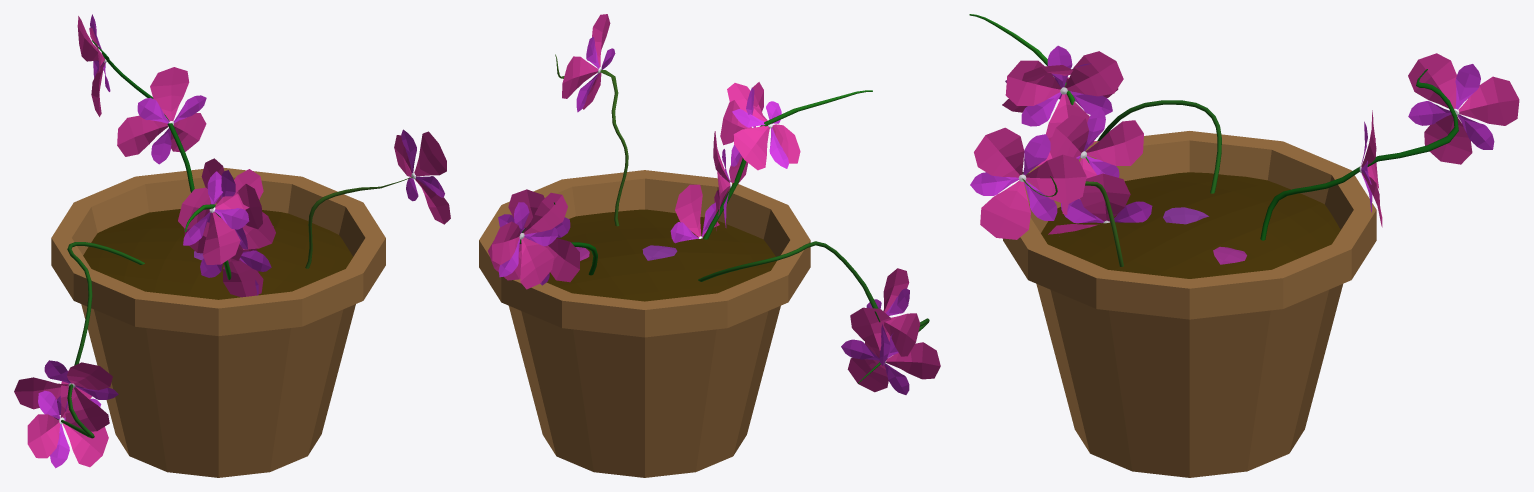
The model's file is Flower1_Frame2.fbx.
3 renders of one model, left to right at view 1: azimuth 30°, elevation 25°; view 2: azimuth 150°, elevation 25°; view 3: azimuth 270°, elevation 25°, orthographic. The views are drawn at different scales.
Visible parts, largest first — view 1: Cylinder, Circle, BézierCurve.002|Circle.008|Dupli|, BézierCurve.003|Circle.008|Dupli|, BézierCurve|Circle.008|Dupli|1, BézierCurve|Circle.008|Dupli|, BézierCurve.001|Circle.008|Dupli|, BézierCurve.003|Circle.008|Dupli|2, BézierCurve.003|Circle.008|Dupli|1, BézierCurve, BézierCurve.002|Circle.008|Dupli|1, BézierCurve.002 (+1 smaller); view 2: Cylinder, Circle, BézierCurve|Circle.008|Dupli|, BézierCurve.002|Circle.008|Dupli|1, BézierCurve.003|Circle.008|Dupli|, BézierCurve|Circle.008|Dupli|1, BézierCurve.002|Circle.008|Dupli|, BézierCurve.001|Circle.008|Dupli|, BézierCurve.003|Circle.008|Dupli|4, BézierCurve.003|Circle.008|Dupli|1, BézierCurve, BézierCurve.003 (+2 smaller); view 3: Cylinder, Circle, BézierCurve.001|Circle.008|Dupli|, BézierCurve.002|Circle.008|Dupli|1, BézierCurve.003|Circle.008|Dupli|1, BézierCurve.003|Circle.008|Dupli|2, BézierCurve.003|Circle.008|Dupli|4, BézierCurve.002, BézierCurve, BézierCurve.002|Circle.008|Dupli|, BézierCurve.003|Circle.008|Dupli|, BézierCurve.001 (+1 smaller).
Part boxes in pixels (x1,y1,x2,y2): Cylinder: [51, 168, 385, 477]; Circle: [83, 209, 352, 299]; BézierCurve.002|Circle.008|Dupli|: [117, 67, 206, 164]; BézierCurve.003|Circle.008|Dupli|: [178, 169, 263, 264]; BézierCurve|Circle.008|Dupli|1: [14, 360, 118, 431]; BézierCurve|Circle.008|Dupli|: [27, 370, 108, 468]; BézierCurve.001|Circle.008|Dupli|: [394, 129, 450, 224]; BézierCurve.003|Circle.008|Dupli|2: [184, 212, 275, 297]; BézierCurve.003|Circle.008|Dupli|1: [201, 158, 262, 260]; BézierCurve: [54, 242, 144, 438]; BézierCurve.002|Circle.008|Dupli|1: [77, 14, 110, 116]; BézierCurve.002: [92, 40, 194, 192]; Cylinder: [479, 170, 810, 477]; Circle: [546, 209, 776, 301]; BézierCurve|Circle.008|Dupli|: [841, 307, 940, 394]; BézierCurve.002|Circle.008|Dupli|1: [492, 192, 567, 289]; BézierCurve.003|Circle.008|Dupli|: [727, 83, 800, 170]; BézierCurve|Circle.008|Dupli|1: [865, 268, 920, 368]; BézierCurve.002|Circle.008|Dupli|: [488, 189, 579, 285]; BézierCurve.001|Circle.008|Dupli|: [562, 14, 615, 112]; BézierCurve.003|Circle.008|Dupli|4: [670, 184, 719, 243]; BézierCurve.003|Circle.008|Dupli|1: [720, 82, 763, 183]; BézierCurve: [698, 241, 929, 383]; BézierCurve.003: [703, 90, 872, 239]; Cylinder: [1003, 131, 1376, 477]; Circle: [1041, 172, 1340, 278]; BézierCurve.001|Circle.008|Dupli|: [970, 127, 1086, 239]; BézierCurve.002|Circle.008|Dupli|1: [1408, 53, 1519, 164]; BézierCurve.003|Circle.008|Dupli|1: [1005, 45, 1123, 145]; BézierCurve.003|Circle.008|Dupli|2: [1050, 107, 1143, 215]; BézierCurve.003|Circle.008|Dupli|4: [1048, 173, 1152, 234]; BézierCurve.002: [1260, 69, 1458, 240]; BézierCurve: [1097, 100, 1221, 193]; BézierCurve.002|Circle.008|Dupli|: [1359, 110, 1382, 227]; BézierCurve.003|Circle.008|Dupli|: [1002, 63, 1118, 112]; BézierCurve.001: [1022, 172, 1123, 266].
Bounding box in the file's own units: 3.1 × 2.48 × 3.33.
